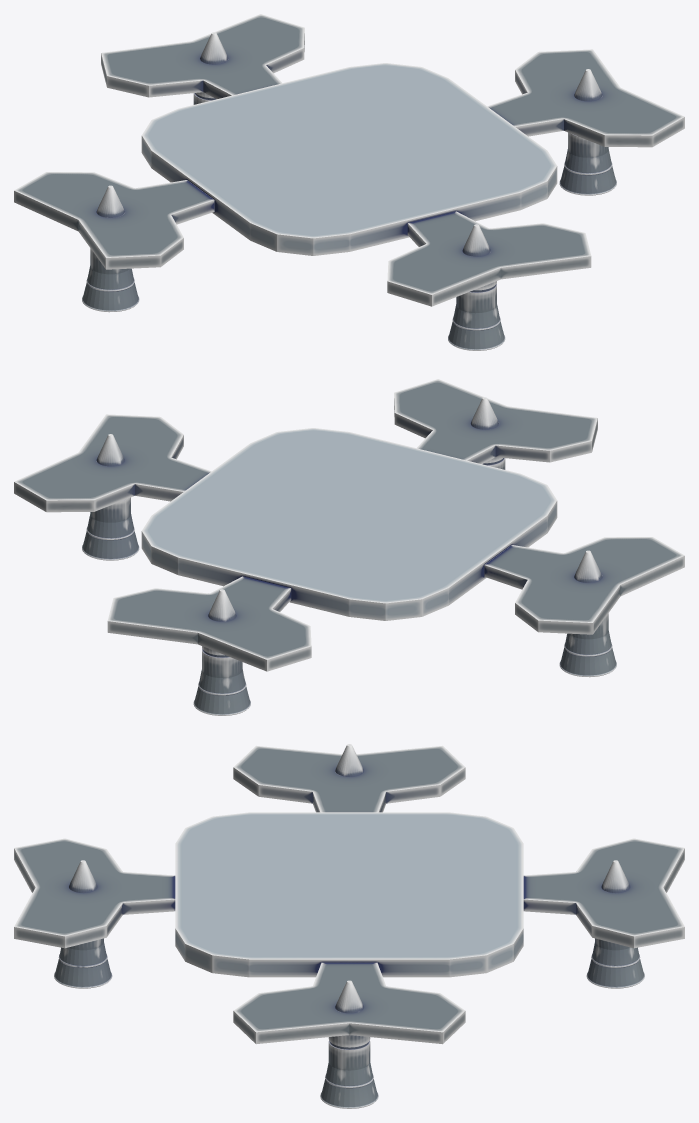
The model's file is drone_platform.glb.
3 views of the same model, one above another, from view 1: azimuth 30°, elevation 25°; view 2: azimuth 150°, elevation 25°; view 3: azimuth 270°, elevation 25° (orthographic).
Visible parts, largest first — view 1: Platform, Thruster Panels 2, Thruster Panels 1, Thrusters 1, Thrusters 2; view 2: Platform, Thruster Panels 2, Thruster Panels 1, Thrusters 1, Thrusters 2; view 3: Platform, Thruster Panels 2, Thruster Panels 1, Thrusters 2, Thrusters 1.
Boxes of the visible parts, x1,y1,x2,y2 form: Platform: (141, 63, 557, 255); Thruster Panels 2: (14, 49, 684, 269); Thruster Panels 1: (101, 14, 591, 306); Thrusters 1: (82, 69, 616, 312); Thrusters 2: (193, 32, 505, 350); Platform: (141, 428, 557, 620); Thruster Panels 2: (14, 414, 684, 634); Thruster Panels 1: (107, 379, 597, 671); Thrusters 1: (82, 434, 616, 677); Thrusters 2: (193, 397, 505, 715); Platform: (175, 812, 523, 977); Thruster Panels 2: (233, 745, 465, 1044); Thruster Panels 1: (14, 838, 684, 948); Thrusters 2: (54, 860, 644, 988); Thrusters 1: (320, 744, 378, 1108).
Bounding box in the file's own units: 1.32 × 0.2478 × 1.31.
2 materials, 2 textured.
